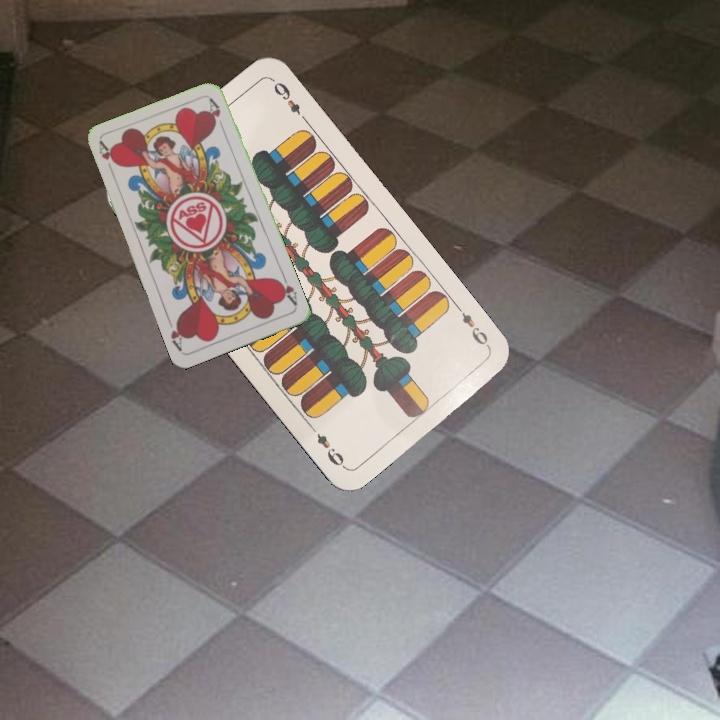E9: (452, 301, 494, 352)
HA: (272, 270, 300, 308), (95, 138, 119, 178)
